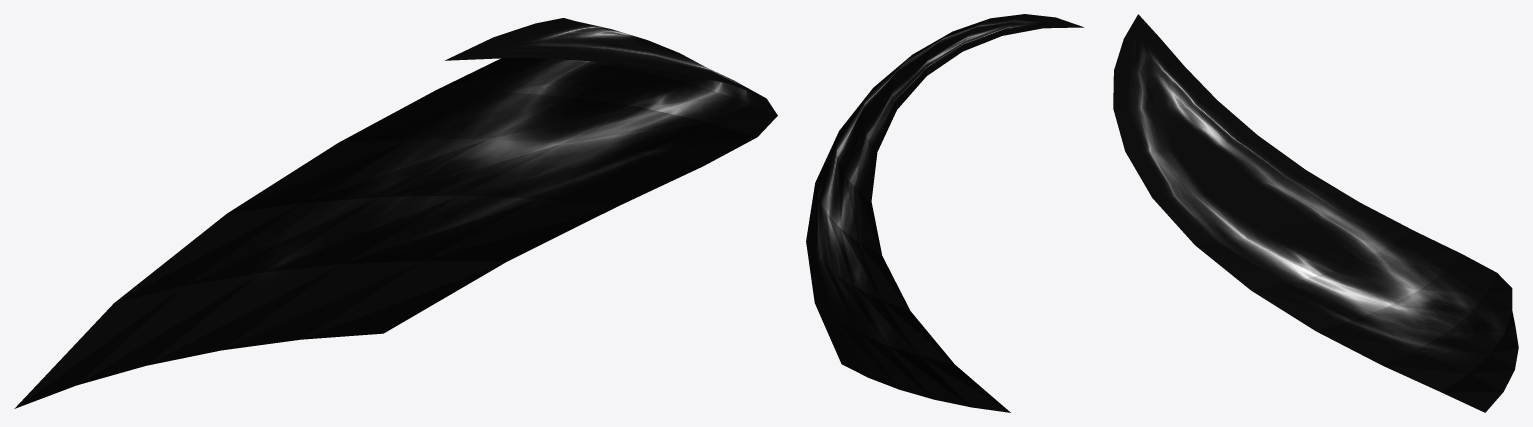
The model's file is 0214_banyuan.glb.
3 views of the same model, side by side, from view 1: azimuth 30°, elevation 25°; view 2: azimuth 150°, elevation 25°; view 3: azimuth 270°, elevation 25° (orthographic). The views are drawn at different scales.
Bounding box in the file's own units: 2.16 × 1.99 × 2.2.
1 material, 1 textured.
